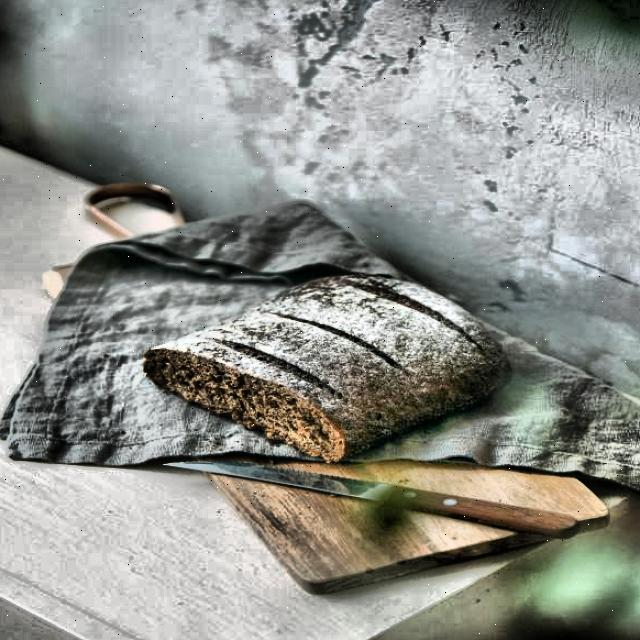knife: (120, 449, 583, 541)
